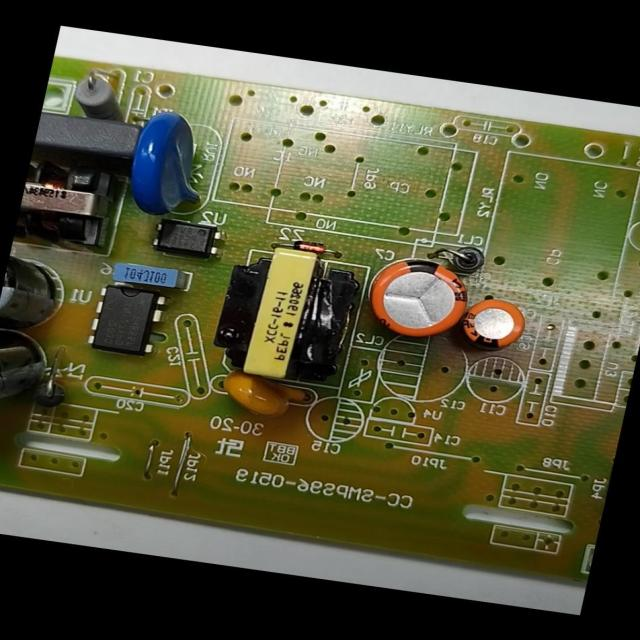Cap1: (353, 245, 477, 345)
Cap2: (451, 292, 530, 352)
Cap3: (0, 245, 73, 337)
Cap4: (0, 329, 62, 428)
MOSFET: (87, 277, 176, 355)
Mov: (118, 105, 210, 221)
Resistor: (62, 68, 136, 122)
Transformer: (203, 243, 370, 395), (12, 151, 127, 257)
